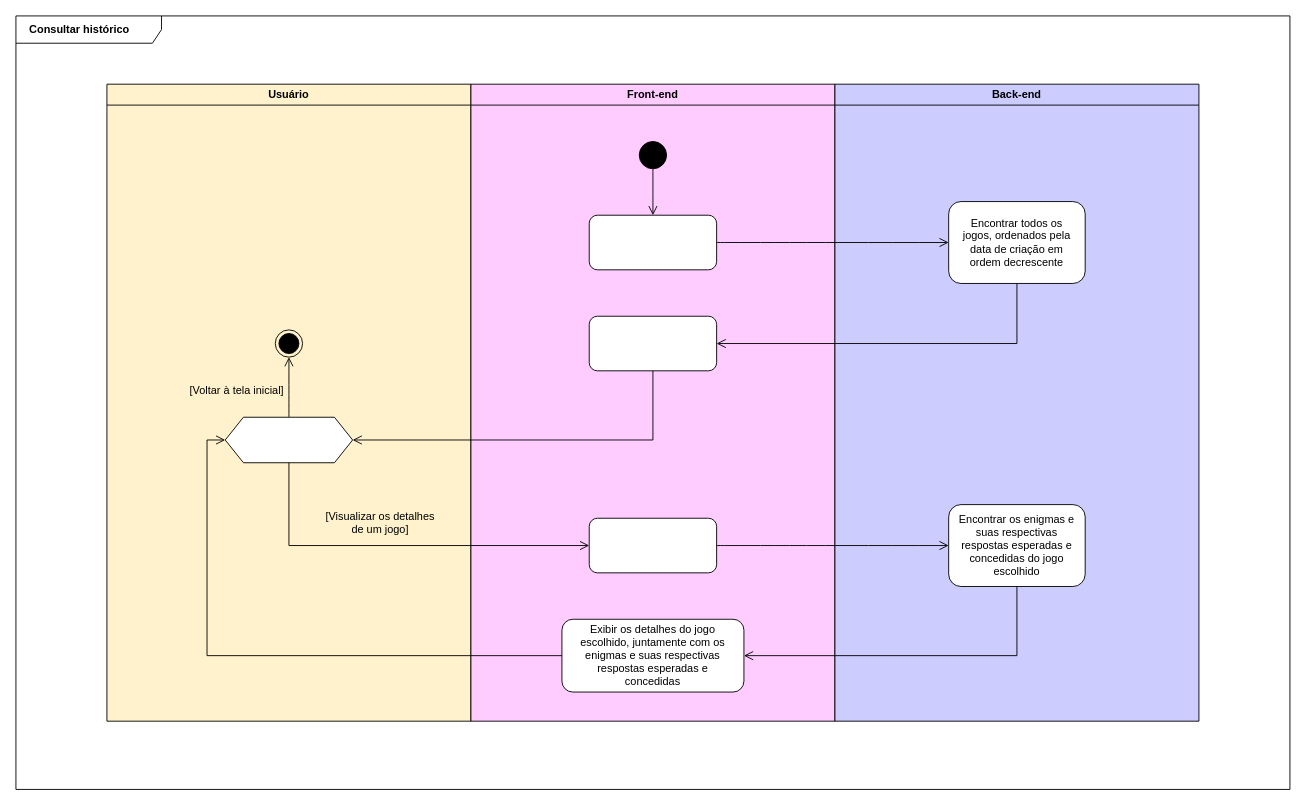
Some shapes in this 1306 by 805 pixel diagram are drawn without their labels. The shapes that lost their labels are listed below. From the top down, each one's centre as x and y in pixels, then its label:
At point (652, 242): "Exibir a tela de consulta de histórico".
At point (652, 343): "Exibir os jogos encontrados".
At point (288, 439): "Escolher uma opção".
At point (652, 545): "Expandir o jogo escolhido".
